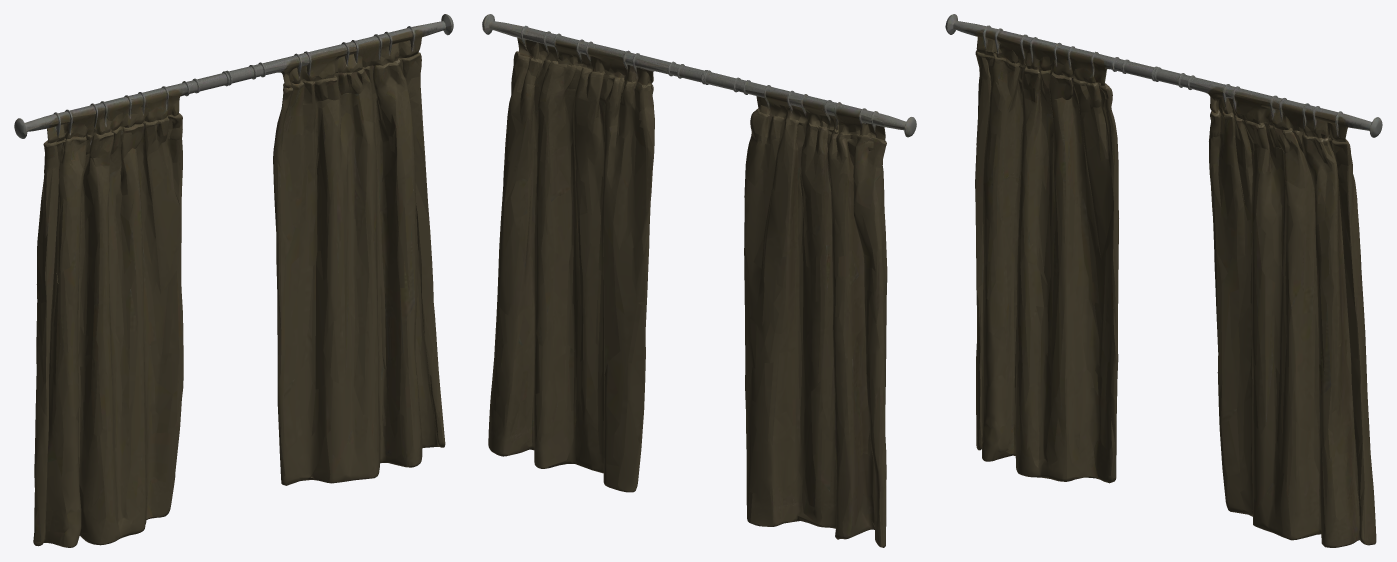
The model's file is tenda_binario_A.glb.
3 views of the same model, side by side, from view 1: azimuth 30°, elevation 25°; view 2: azimuth 150°, elevation 25°; view 3: azimuth 330°, elevation 25° (orthographic).
Parts seen in each view (by area): view 1: Mesh_0; view 2: Mesh_0; view 3: Mesh_0.
Boxes of the visible parts, x1=… form: Mesh_0: x1=14, y1=14, x2=453, y2=547; Mesh_0: x1=482, y1=14, x2=916, y2=547; Mesh_0: x1=945, y1=14, x2=1382, y2=547.
Size of the model in its own units: 2 by 1.94 by 0.1679.
Materials: 1 (1 with a texture image).
